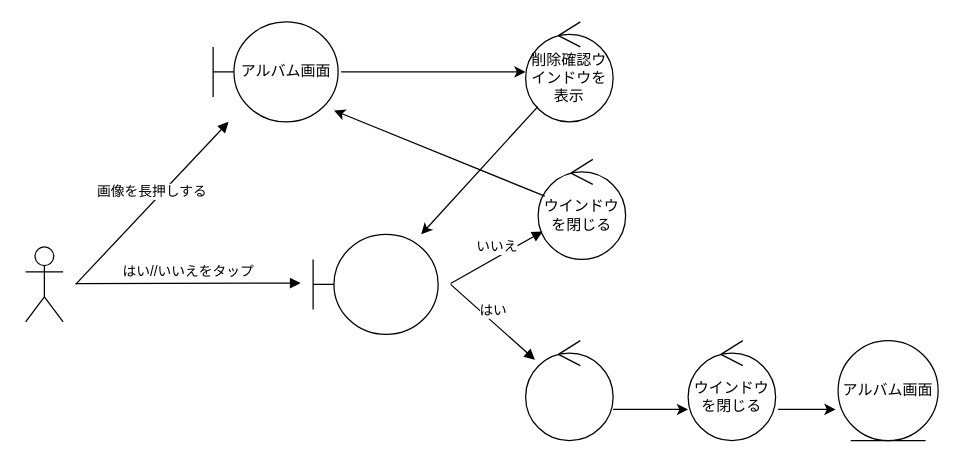
This 960x463 diagram has some shape labels left out. The centre of each missing label's shape, as x and y in pixels:
"ユーザ" belongs at point 43,284.
"写真を削除" belongs at point 568,390.
"消去確認画面" belongs at point 375,283.
